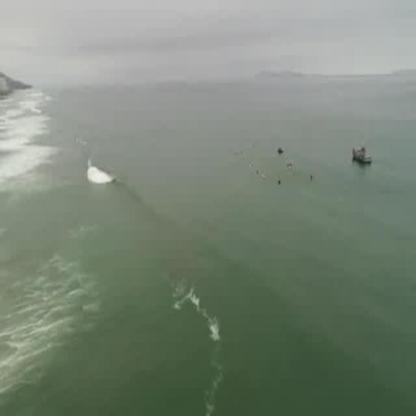Boat: (350, 140, 374, 171)
